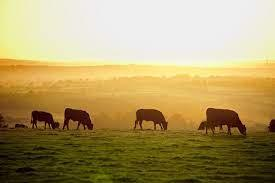cow: (206, 109, 247, 136), (133, 109, 169, 131), (64, 108, 94, 131), (32, 111, 59, 132)
